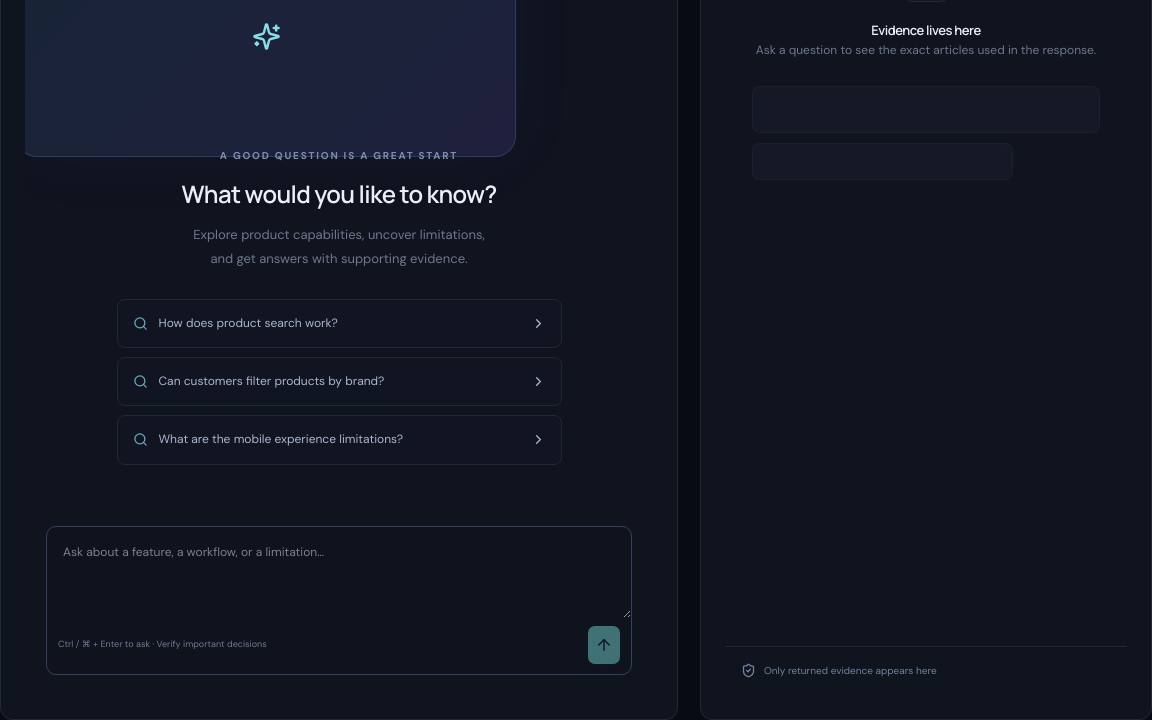
Test: working product screens › submits a real query contract and displays the returned answer
(page scrolled)
Type "How do I change the logo?" into the text box named "Ask a question".
click(339, 572); type("How do I change the logo?")  # box [47,526,631,618]
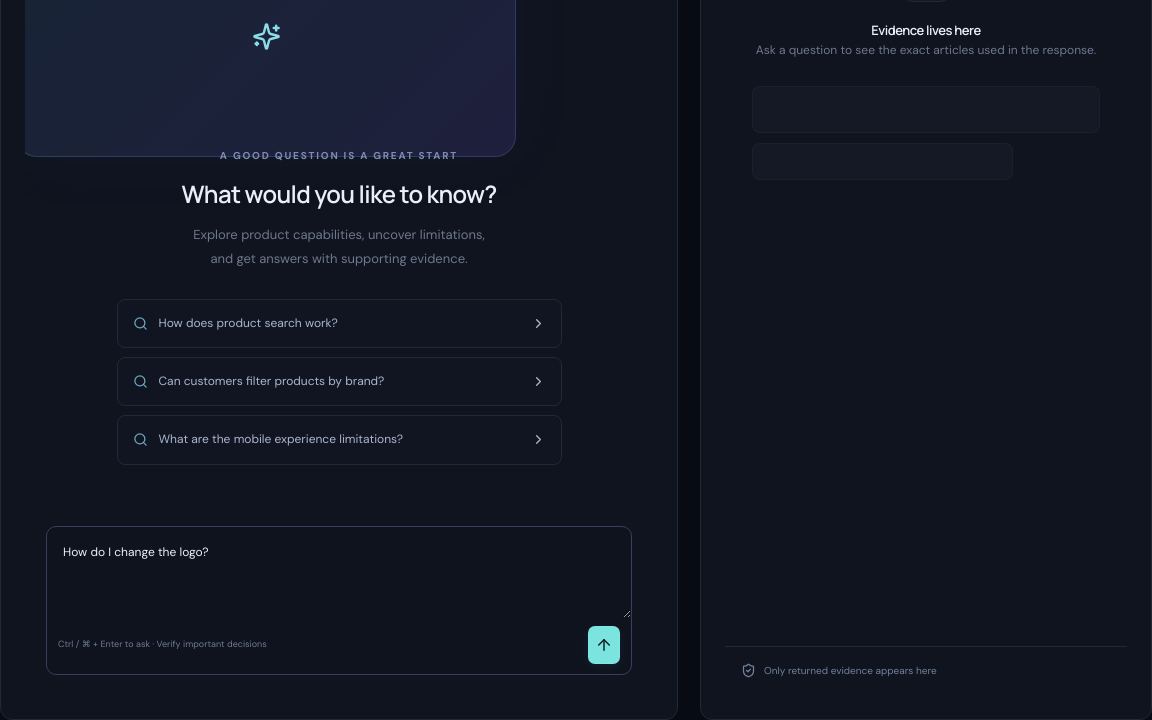
Click the button named "Ask question".
click(604, 644)  # box [588,626,620,664]
(page scrolled)
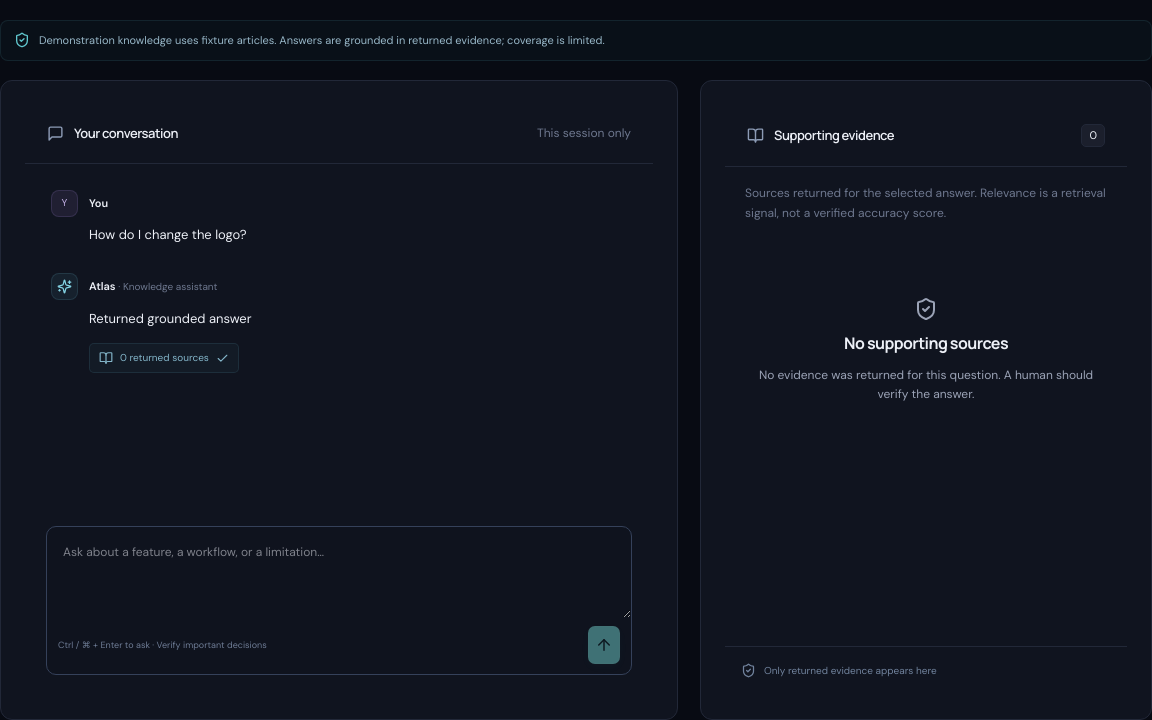
Expected: the text "Returned grounded answer" is shown, [89,310,252,327]
